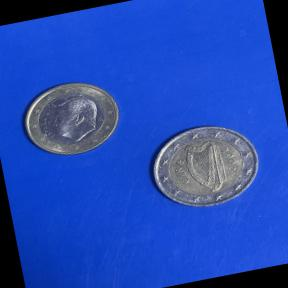1 Euro-B: (9, 68, 132, 170)
2 Euro-B: (138, 112, 270, 220)
